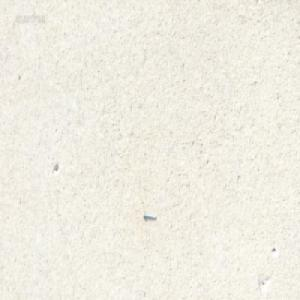Nail: (142, 210, 156, 219)
